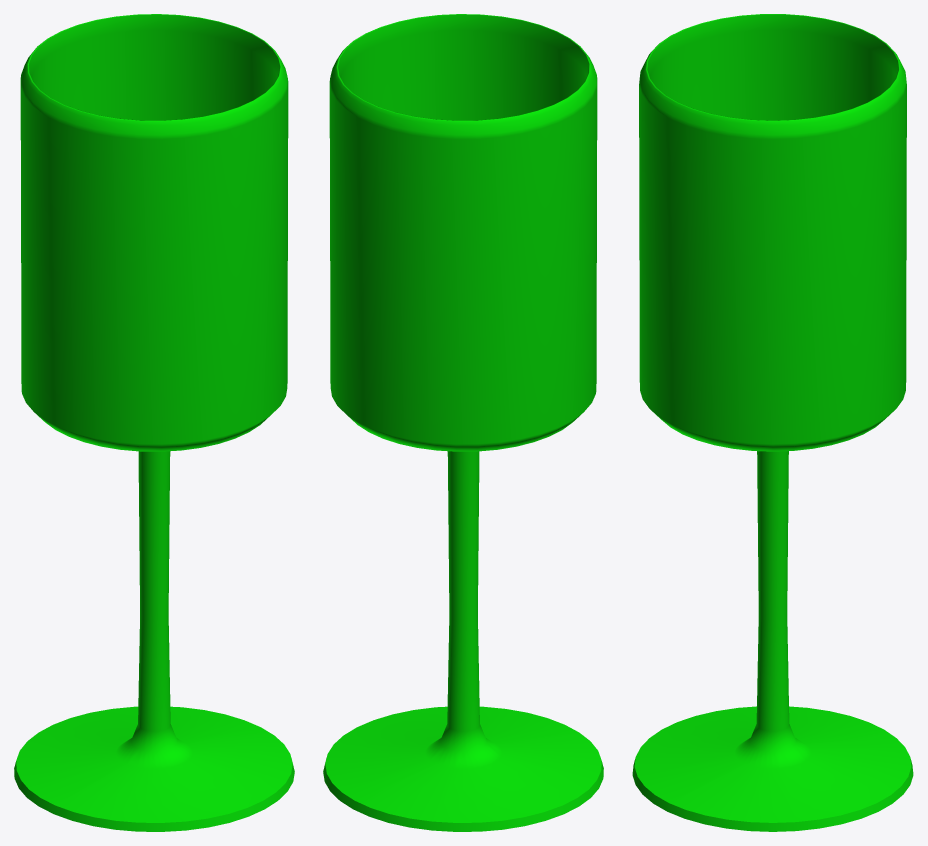
File: Glass8_LOD_2.fbx
3 renders of one model, left to right at view 1: azimuth 30°, elevation 25°; view 2: azimuth 150°, elevation 25°; view 3: azimuth 270°, elevation 25°, orthographic.
Visible parts, largest first — view 1: Glass8_LOD_2; view 2: Glass8_LOD_2; view 3: Glass8_LOD_2.
Part boxes in pixels (x1=…): Glass8_LOD_2: x1=14, y1=14, x2=294, y2=831; Glass8_LOD_2: x1=323, y1=14, x2=603, y2=831; Glass8_LOD_2: x1=632, y1=14, x2=913, y2=831.
Bounding box in the file's own units: 0.7178 × 1.99 × 0.7185.
